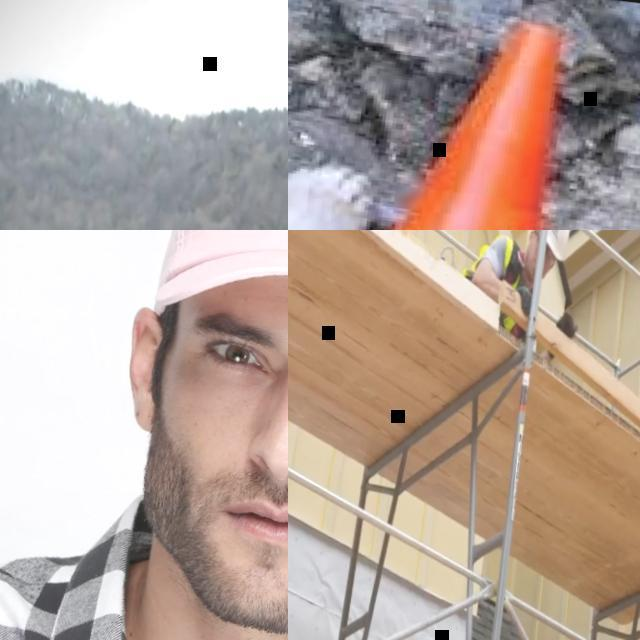Helmet: (526, 222, 580, 280)
Robbery: (28, 215, 292, 640), (464, 233, 606, 376)
